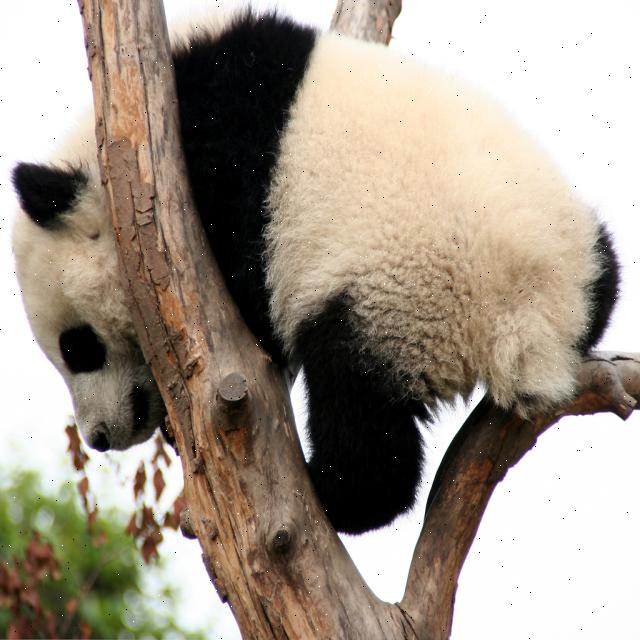panda: (10, 0, 623, 539)
